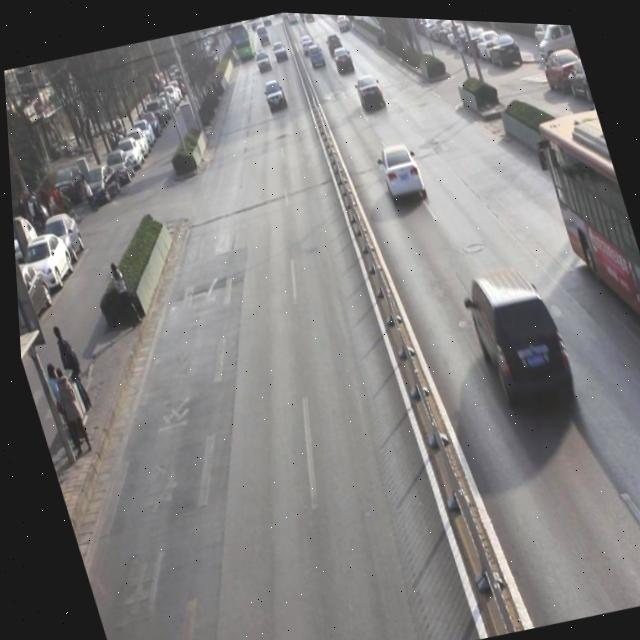car: (454, 253, 578, 416), (372, 135, 429, 204), (350, 65, 387, 111), (259, 73, 288, 111)
van: (530, 94, 640, 368)
